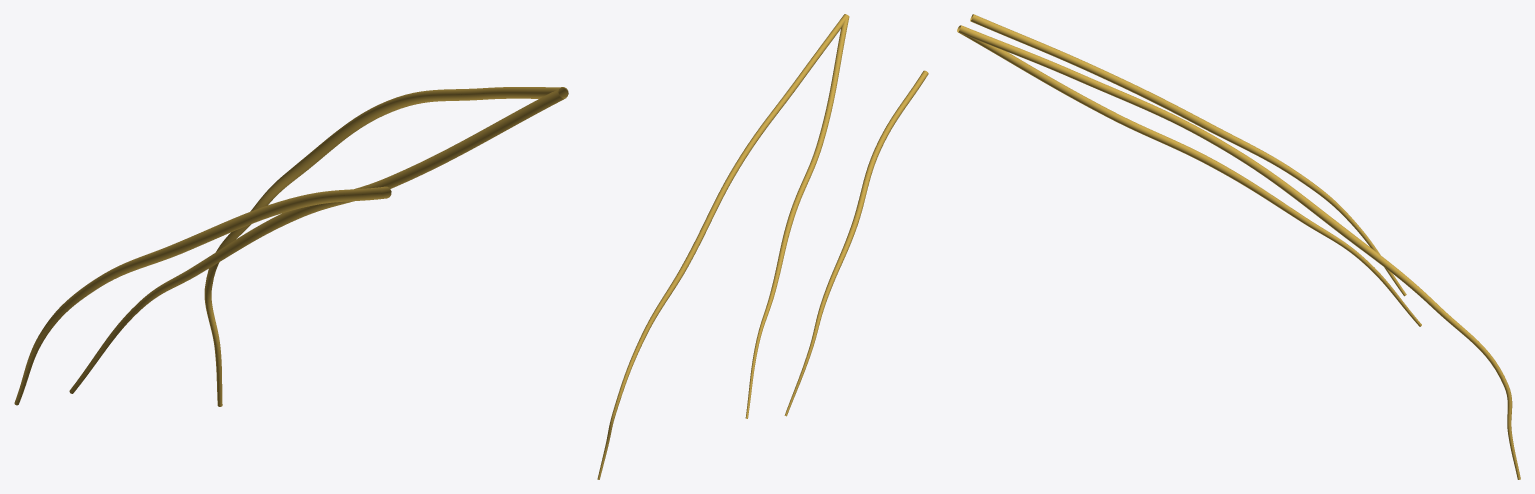
3 views of the same model, side by side, from view 1: azimuth 30°, elevation 25°; view 2: azimuth 150°, elevation 25°; view 3: azimuth 270°, elevation 25° (orthographic). The views are drawn at different scales.
Parts seen in each view (by area): view 1: 左侧尺神经指背神经; view 2: 左侧尺神经指背神经; view 3: 左侧尺神经指背神经.
Boxes of the visible parts, <box> form: 左侧尺神经指背神经: <box>14,87,568,406</box>; 左侧尺神经指背神经: <box>597,14,928,479</box>; 左侧尺神经指背神经: <box>957,14,1520,479</box>.
Bounding box in the file's own units: 0.043 × 0.0871 × 0.1037.
